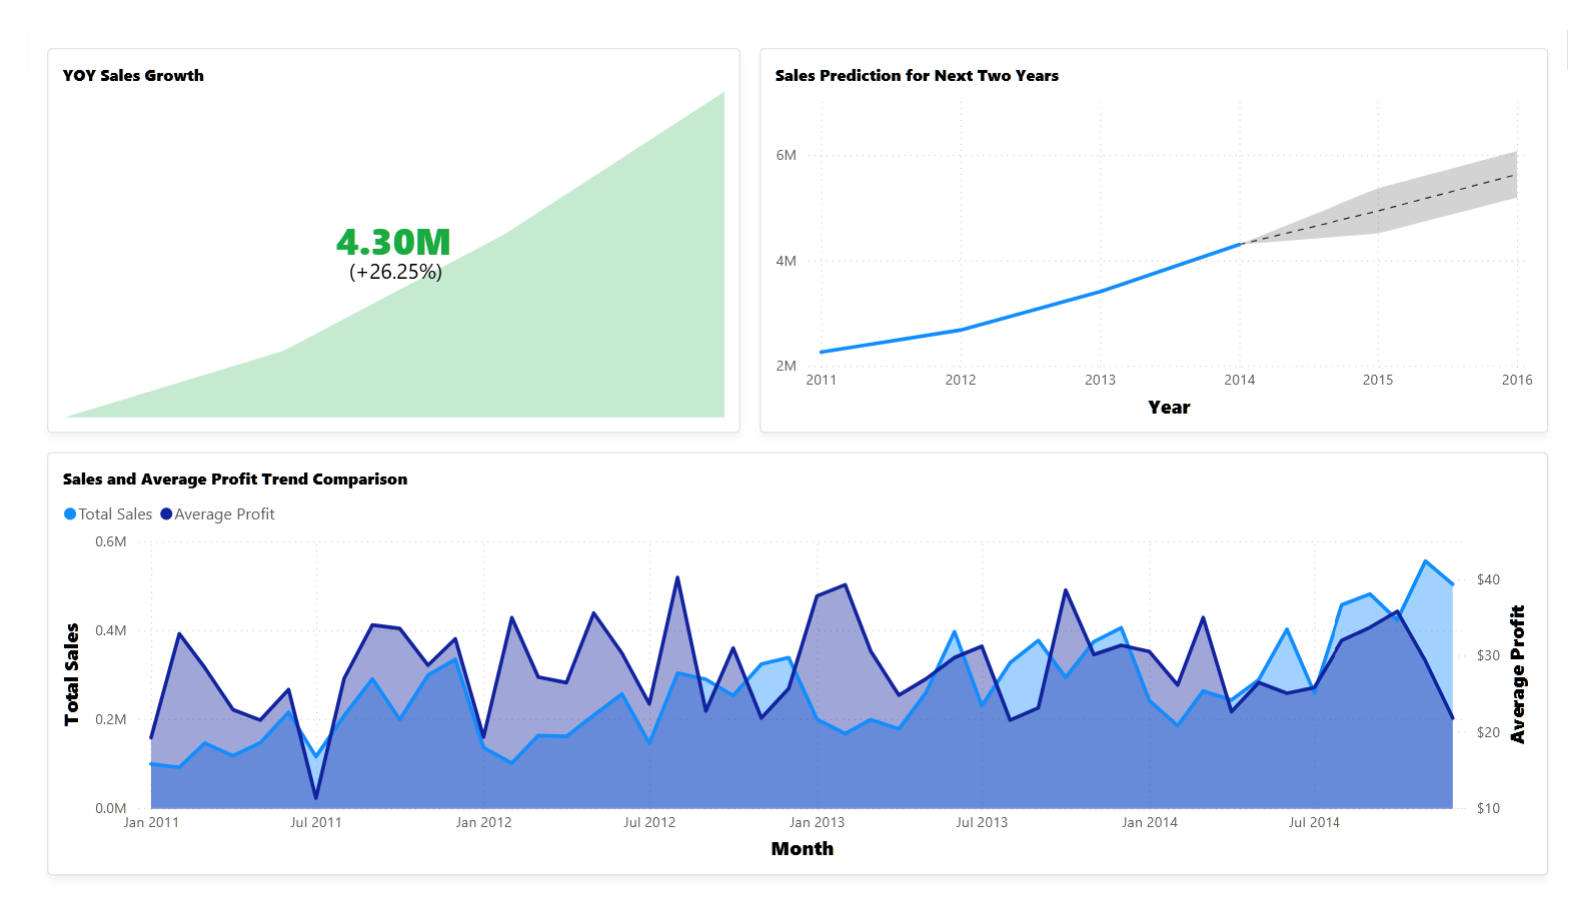

Layout of this report page (visuals, bound fields, positions):
{"tool":"powerbi","page":{"name":"Trend Analysis","canvas":[1280,720],"ordinal":5},"visuals":[{"type":"areaChart","title":"Sales and Average Profit Trend Comparison","fields":{"Category":["superstore.Order.Date.Variation.Date Hierarchy.Year","superstore.Order.Date.Variation.Date Hierarchy.Month"],"Y":["Sum(superstore.Sales)"],"Y2":["Avg(superstore.Profit)"]},"box":[16,352,1248,352],"z":0},{"type":"kpi","title":"YOY Sales Growth","fields":{"TrendLine":["superstore.Order.Date.Variation.Date Hierarchy.Year"],"Indicator":["Sum(superstore.Sales)"],"Goal":["superstore.sale_previous_year"]},"box":[16,16,576,320],"z":1000},{"type":"lineChart","title":"Sales Prediction for Next Two Years","fields":{"Category":["superstore.Order.Date.Variation.Date Hierarchy.Year","superstore.Order.Date.Variation.Date Hierarchy.Quarter","superstore.Order.Date.Variation.Date Hierarchy.Month","superstore.Order.Date.Variation.Date Hierarchy.Day"],"Y":["Sum(superstore.Sales)"]},"box":[608,16,656,320],"z":2000}]}

Visuals, with their boxes in screenshot pixels (x1, y1, x2, y2), scaled from the page's 1280x720 canvas onto the 1596x923 screenshot:
"Sales and Average Profit Trend Comparison" areaChart: rect(20, 451, 1576, 902)
"YOY Sales Growth" kpi: rect(20, 21, 738, 431)
"Sales Prediction for Next Two Years" lineChart: rect(758, 21, 1576, 431)
